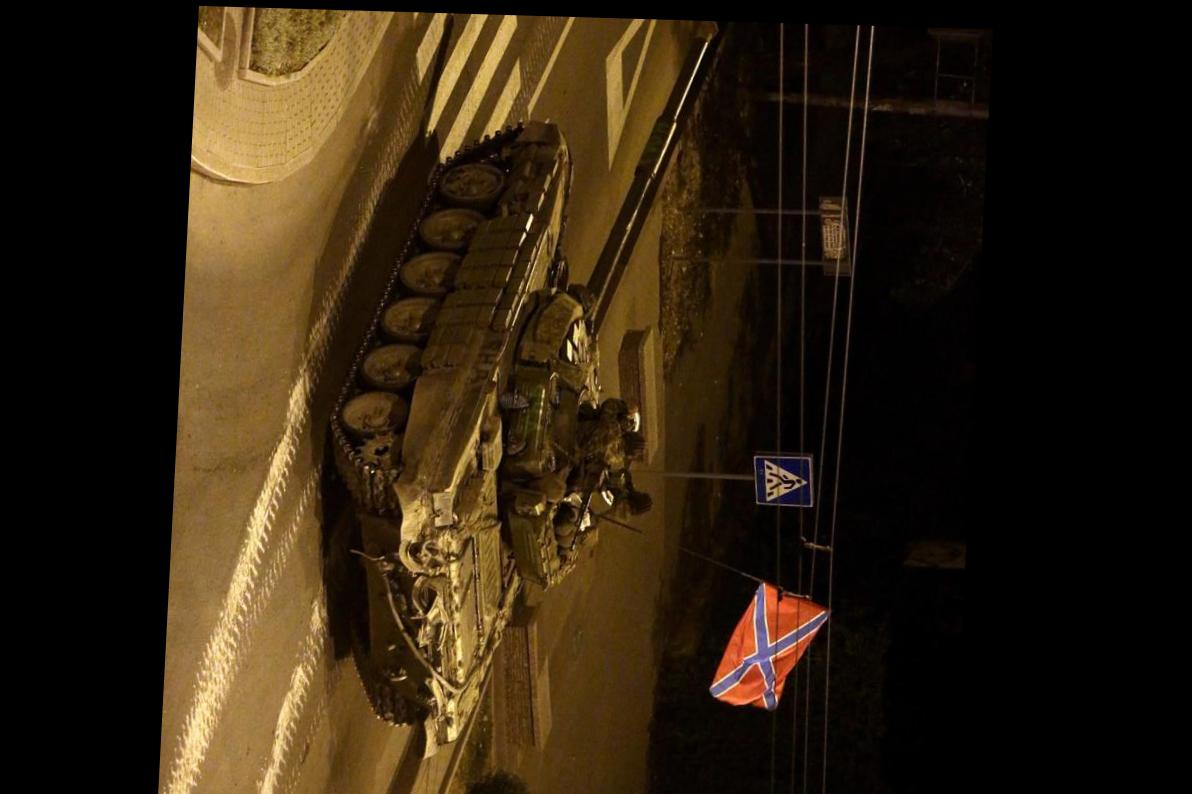tank: (291, 10, 725, 751)
